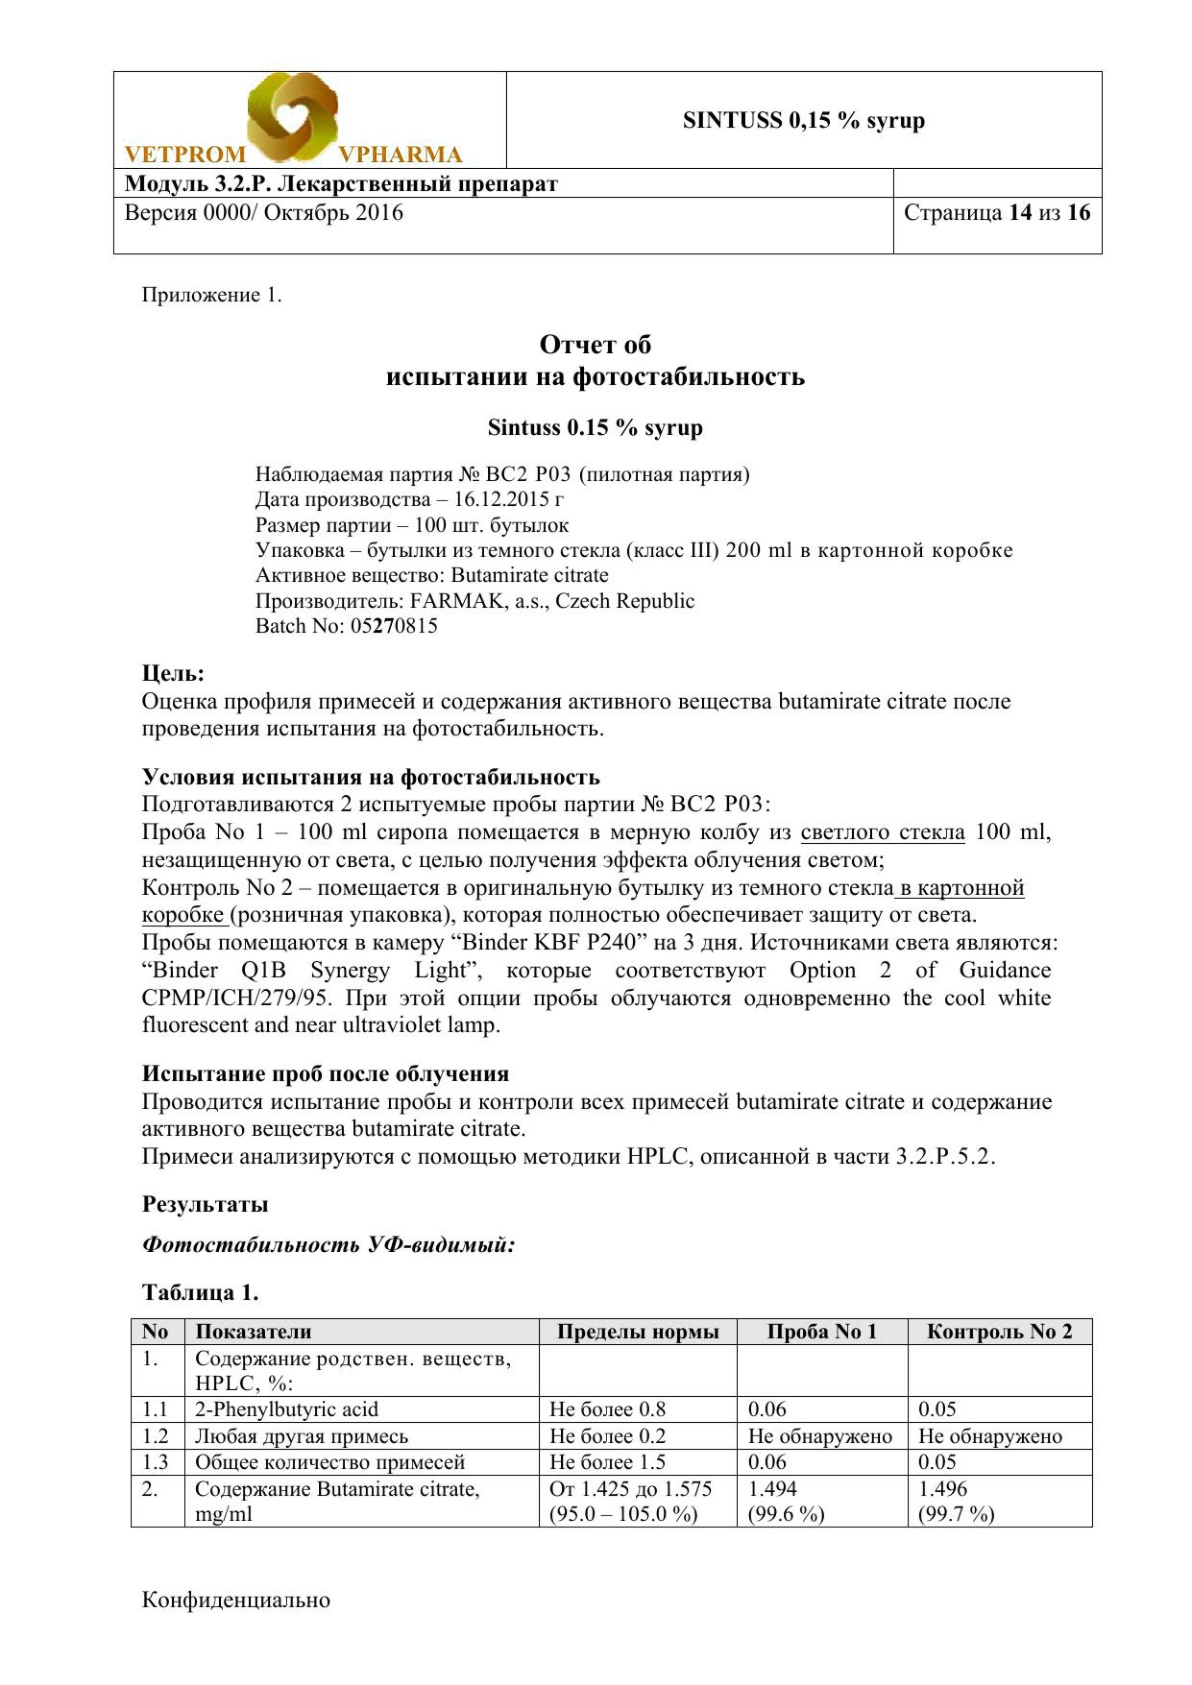full_lined: (130, 1319, 1093, 1528)
merged_cells: (111, 70, 1103, 255)
